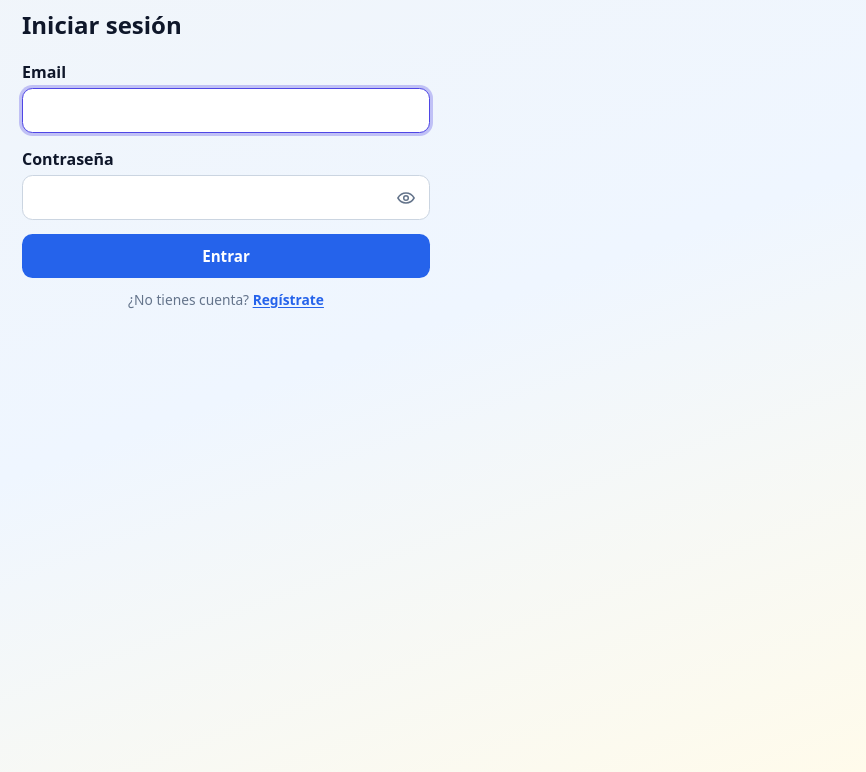
Test case: formularios de autenticación › muestra los campos obligatorios del login
Click the button "Entrar" at (226, 256), box x1=22 y1=234 x2=430 y2=278
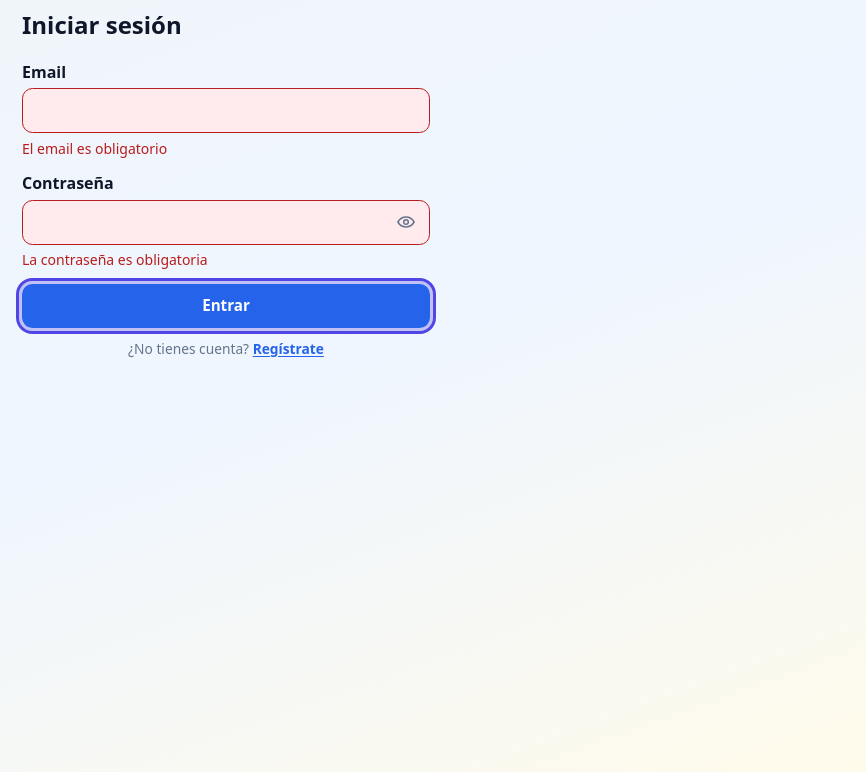
Result: the text "El email es obligatorio" is shown at x1=22 y1=139 x2=167 y2=158
Result: the text "La contraseña es obligatoria" is shown at x1=22 y1=250 x2=208 y2=269
